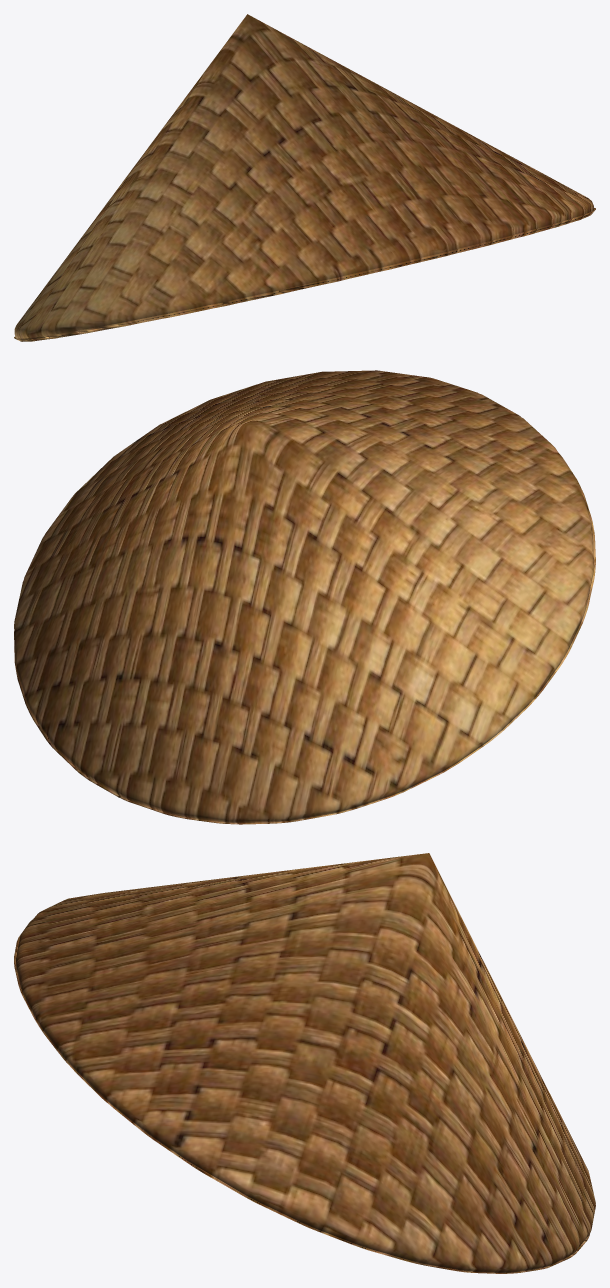
The model's file is hat_rice_farmer.glb.
The picture shows the model from 3 angles, top to bottom: view 1: azimuth 30°, elevation 25°; view 2: azimuth 150°, elevation 25°; view 3: azimuth 270°, elevation 25°; orthographic projection. The views are drawn at different scales.
Parts seen in each view (by area): view 1: Cone_0; view 2: Cone_0; view 3: Cone_0.
Part boxes in pixels (x1=…): Cone_0: x1=14, y1=14, x2=595, y2=341; Cone_0: x1=14, y1=370, x2=595, y2=824; Cone_0: x1=14, y1=853, x2=595, y2=1273.
Size of the model in its own units: 7.61 by 4.73 by 6.87.
Materials: 1 (1 with a texture image).
